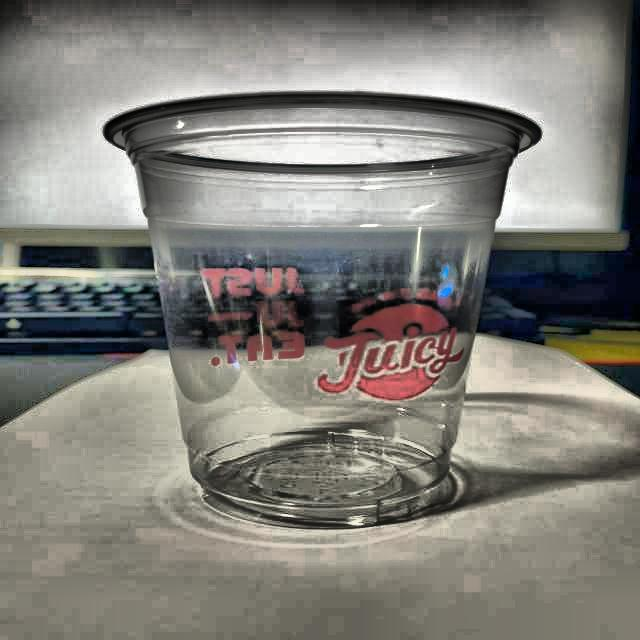plastic cup: (100, 88, 546, 534)
